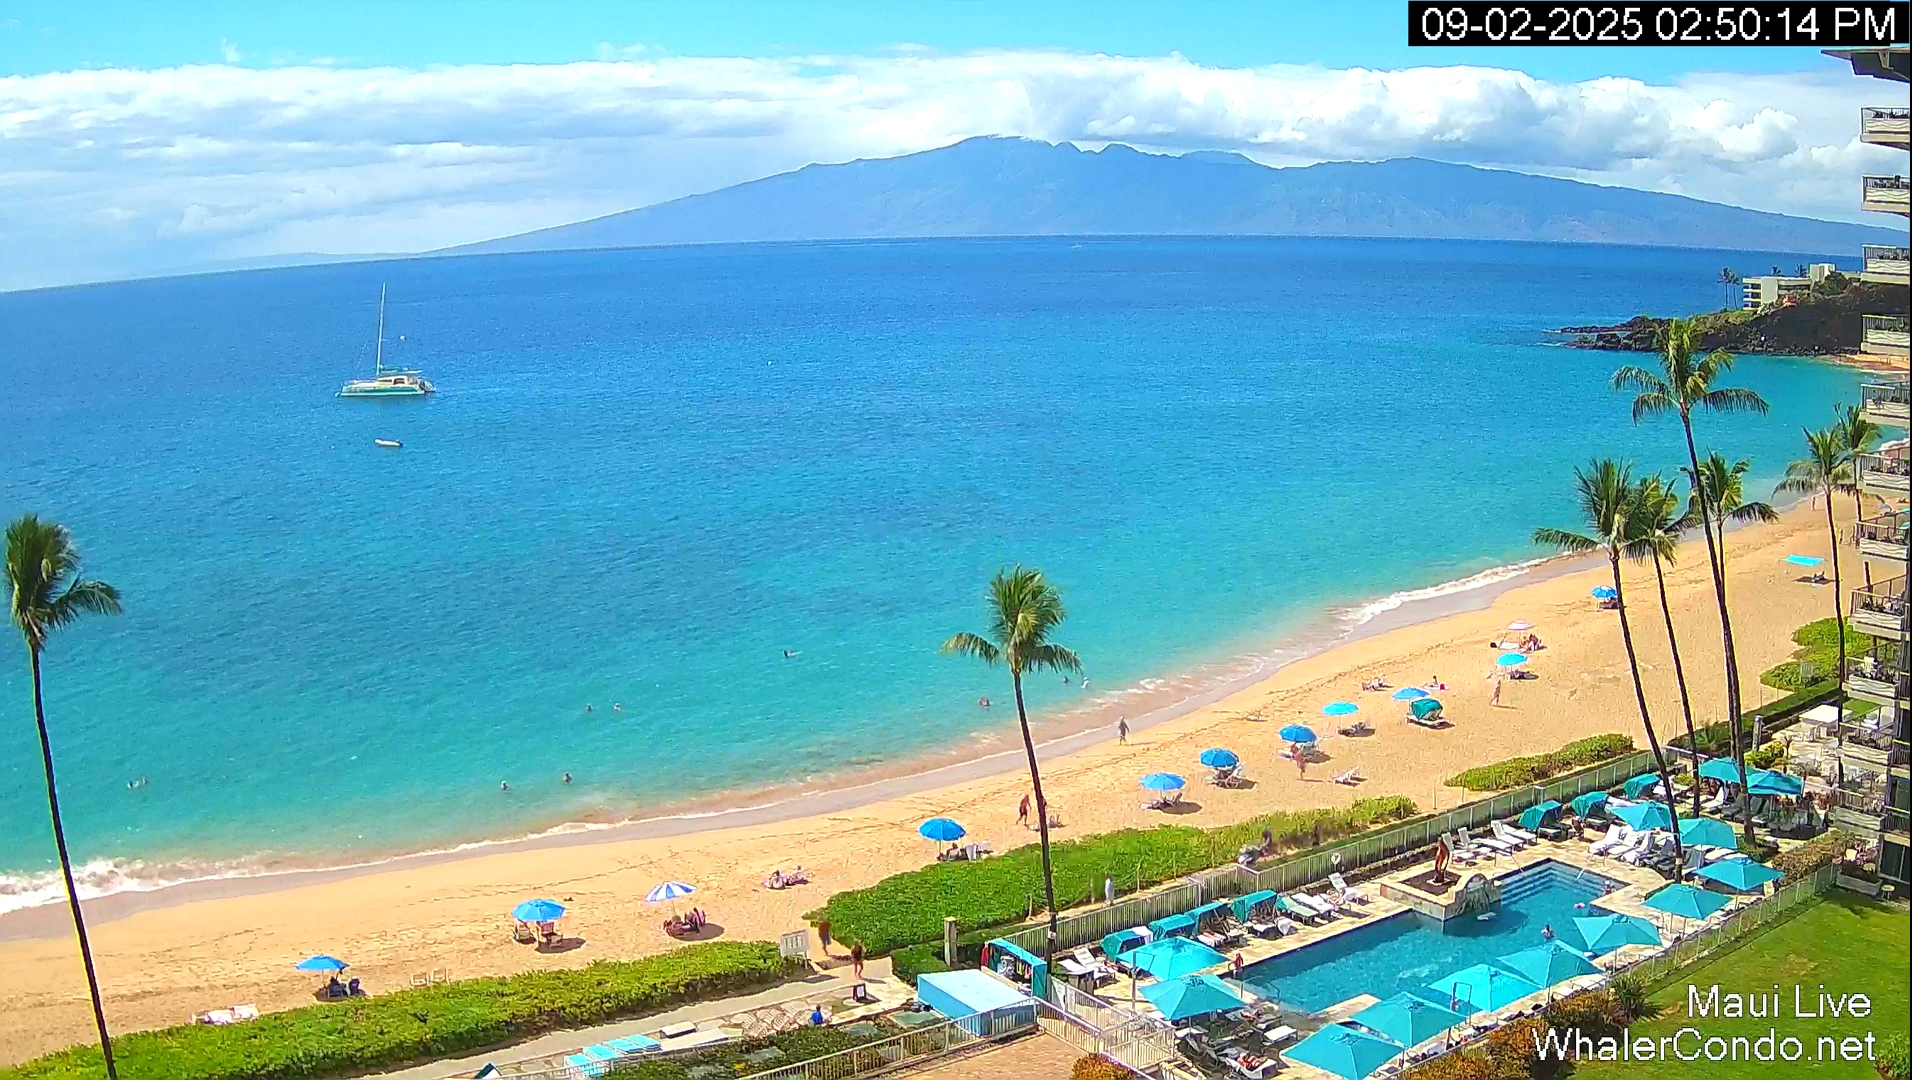boat: (336, 282, 437, 398), (374, 438, 404, 447), (1069, 242, 1082, 250)
person: (850, 940, 865, 980), (818, 920, 832, 956), (1016, 794, 1032, 825), (1116, 716, 1131, 746), (1232, 952, 1244, 980), (328, 977, 344, 997), (1105, 876, 1115, 906), (1490, 679, 1501, 706), (811, 1005, 824, 1026), (692, 907, 703, 930), (946, 842, 960, 860), (1081, 677, 1090, 689), (563, 773, 572, 784), (501, 781, 508, 790), (614, 703, 620, 711)
